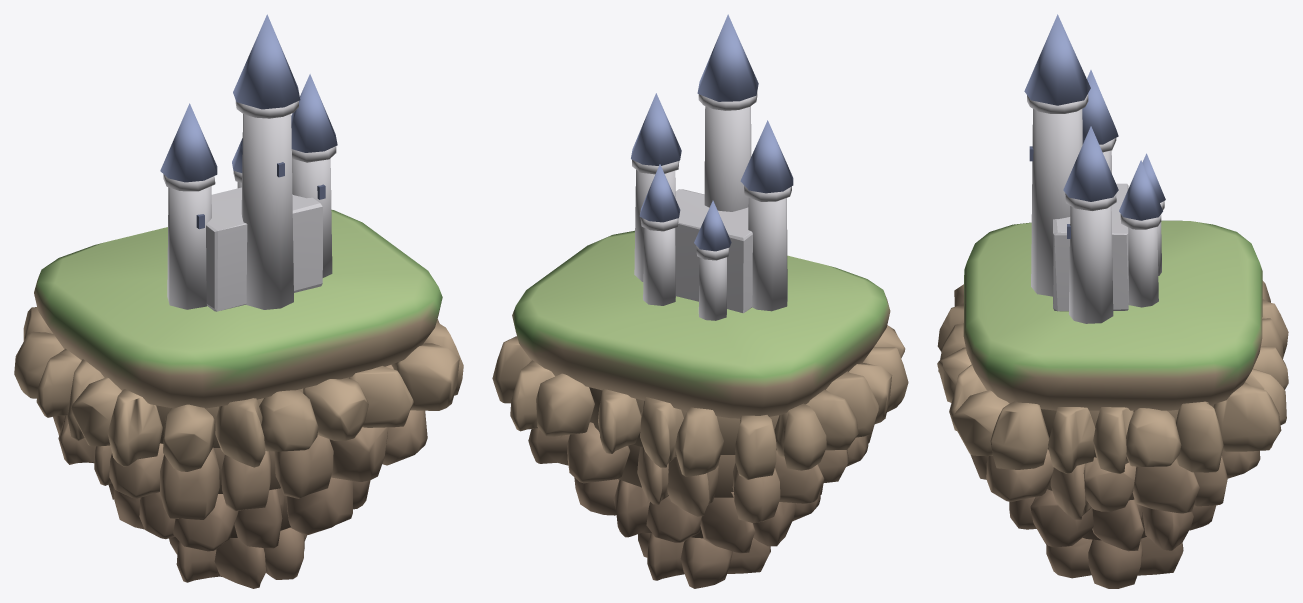
Rendered from far_castle.glb.
The picture shows the model from 3 angles, left to right: view 1: azimuth 30°, elevation 25°; view 2: azimuth 150°, elevation 25°; view 3: azimuth 270°, elevation 25°; orthographic projection. The views are drawn at different scales.
Parts seen in each view (by area): view 1: far_castle; view 2: far_castle; view 3: far_castle.
Part boxes in pixels (x1,y1,x2,y2): far_castle: (14, 14, 463, 588); far_castle: (492, 14, 908, 588); far_castle: (937, 14, 1288, 588).
Bounding box in the file's own units: 3.64 × 5.46 × 3.16.
